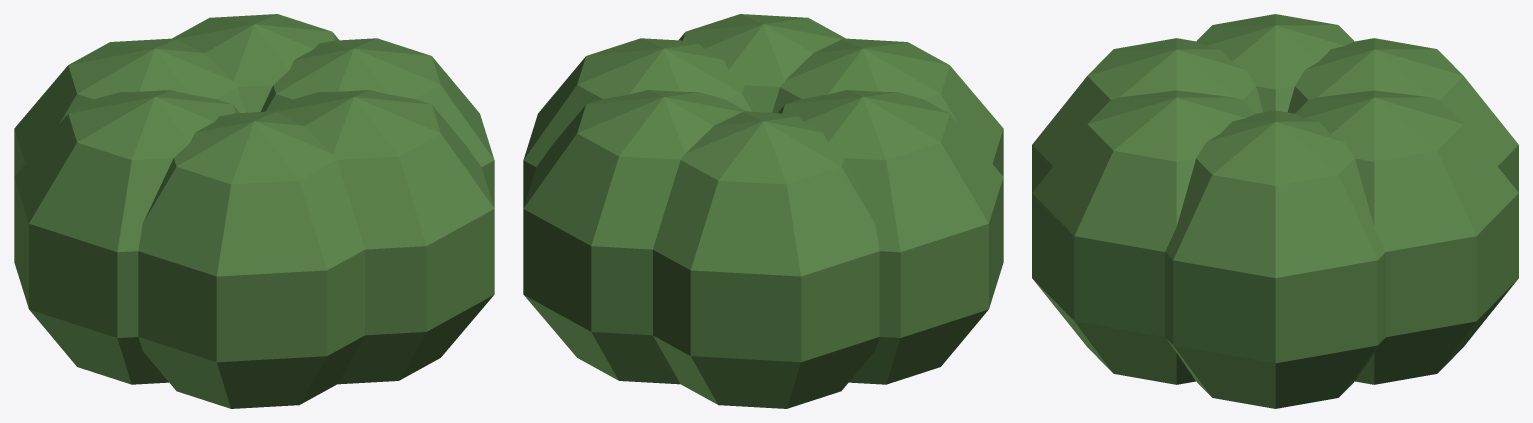
The model's file is nature-sea-grape.lod0.glb.
3 renders of one model, left to right at view 1: azimuth 30°, elevation 25°; view 2: azimuth 150°, elevation 25°; view 3: azimuth 270°, elevation 25°, orthographic.
Visible parts, largest first — view 1: nature-sea-grape__body; view 2: nature-sea-grape__body; view 3: nature-sea-grape__body.
Part boxes in pixels (bbox=[...]): nature-sea-grape__body: bbox=[14, 14, 494, 408]; nature-sea-grape__body: bbox=[523, 14, 1003, 408]; nature-sea-grape__body: bbox=[1032, 14, 1518, 408].
Bounding box in the file's own units: 1.36 × 0.8 × 1.28.
